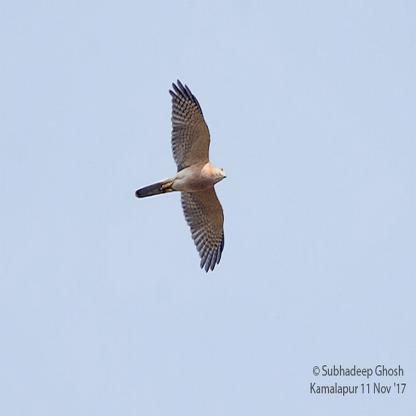Burung: (135, 79, 226, 271)
